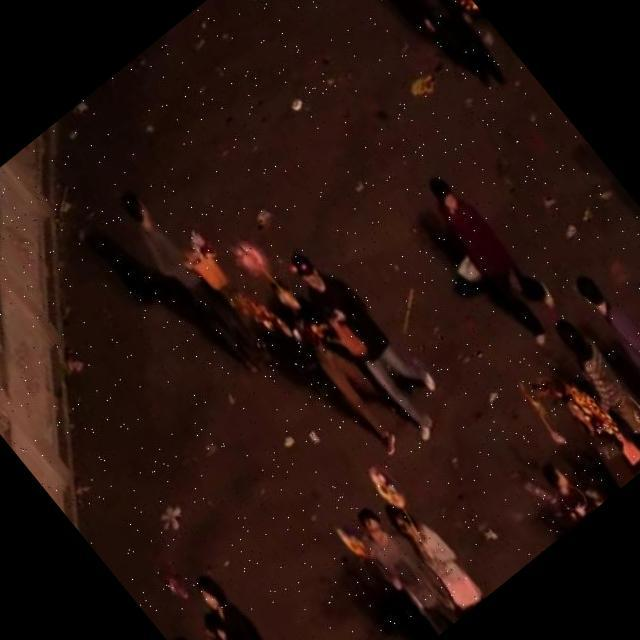person: (278, 232, 466, 446), (240, 261, 420, 466), (105, 180, 280, 385), (402, 156, 572, 348), (342, 502, 464, 640), (369, 479, 488, 616), (365, 0, 514, 102), (527, 370, 640, 503), (542, 312, 640, 465), (558, 257, 640, 438), (165, 553, 331, 640), (512, 434, 602, 532), (612, 244, 640, 387)
